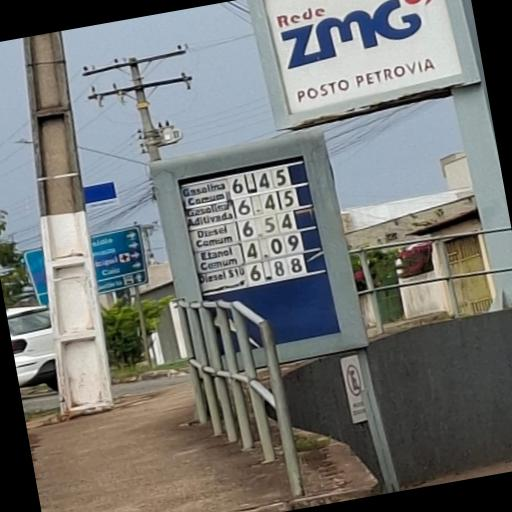ETANOL: (195, 244, 242, 272)
GASOLINA AD: (185, 202, 236, 228)
GASOLINA C: (180, 177, 232, 206)
S10: (196, 266, 248, 294)
S500: (190, 223, 238, 248)
placa: (178, 156, 325, 297)
preco: (242, 231, 304, 262), (234, 188, 299, 217), (230, 166, 290, 195), (246, 254, 306, 283), (238, 210, 296, 238)
